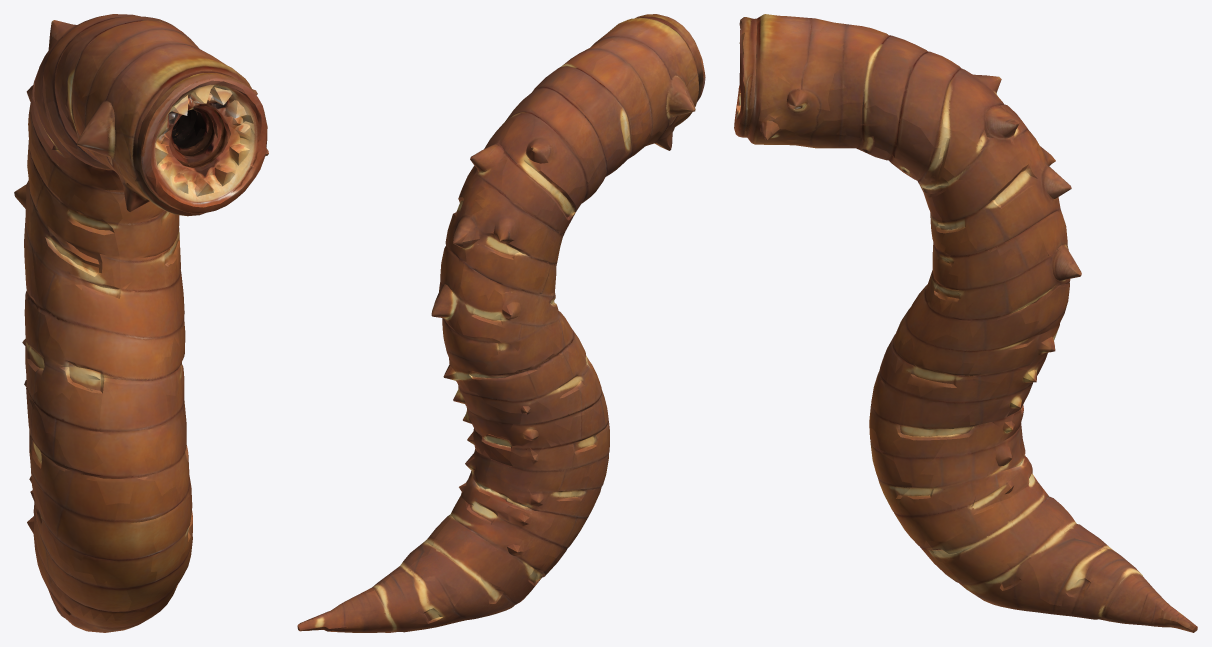
The model's file is Larve idle.glb.
The picture shows the model from 3 angles, left to right: view 1: azimuth 30°, elevation 25°; view 2: azimuth 150°, elevation 25°; view 3: azimuth 270°, elevation 25°; orthographic projection. The views are drawn at different scales.
Parts seen in each view (by area): view 1: output_unwrapped; view 2: output_unwrapped; view 3: output_unwrapped.
Part boxes in pixels (x1,y1,x2,y2): output_unwrapped: [14, 14, 268, 632]; output_unwrapped: [297, 14, 705, 632]; output_unwrapped: [734, 14, 1197, 632].
Bounding box in the file's own units: 0.855 × 1.91 × 1.48.
Materials: 1 (1 with a texture image).
